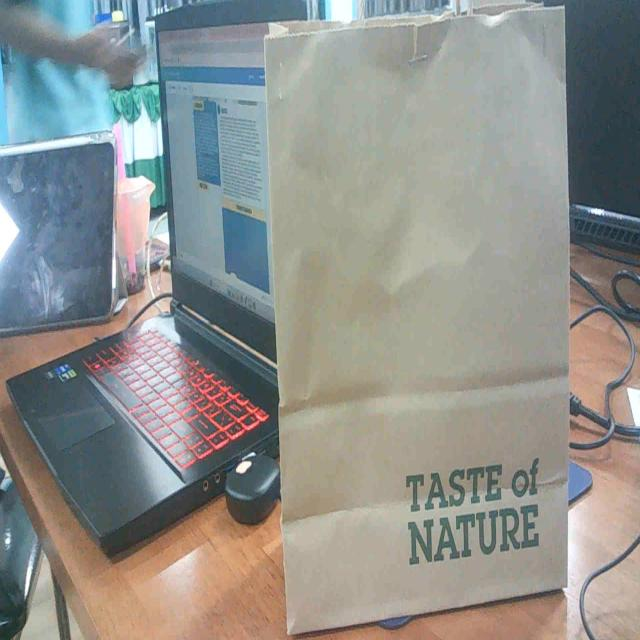bag: (255, 5, 582, 636)
